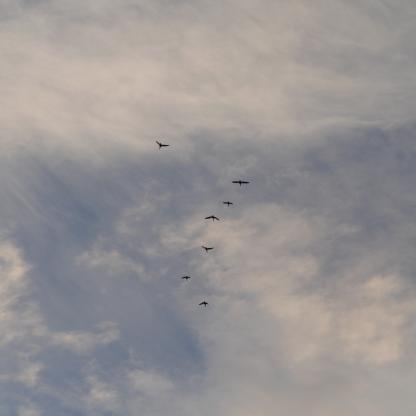bird: (156, 141, 170, 150), (232, 180, 250, 186), (200, 246, 214, 253), (204, 215, 219, 221), (223, 201, 233, 207), (199, 301, 209, 307), (181, 276, 191, 281)
